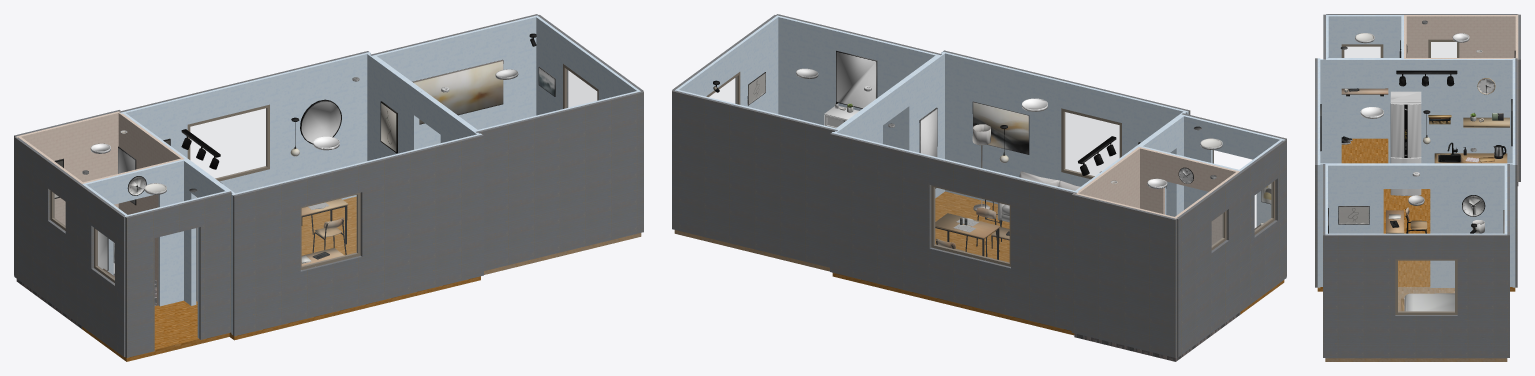
The model's file is scene_named.glb.
The picture shows the model from 3 angles, left to right: view 1: azimuth 30°, elevation 25°; view 2: azimuth 150°, elevation 25°; view 3: azimuth 270°, elevation 25°; orthographic projection. The views are drawn at different scales.
Parts seen in each view (by area): view 1: south_wall_exterior_living_room/south_wall_exterior_living_r, south_wall_exterior_bedroom/south_wall_exterior_bedroom/geom, north_wall_living_room/north_wall_living_room/geometry_0, south_wall_exterior_hallway/south_wall_exterior_hallway/geom, west_wall_exterior_bathroom/west_wall_exterior_bathroom/geom, north_wall_bedroom/north_wall_bedroom/geometry_0, west_wall_exterior_hallway/west_wall_exterior_hallway/geomet, east_wall_living_room/east_wall_living_room/geometry_0, north_wall_hallway/north_wall_hallway/geometry_0, north_wall_bathroom/north_wall_bathroom/geometry_0, east_wall_bedroom/east_wall_bedroom/geometry_0, window_1_living_room/window_1_living_room/glass (+19 smaller); view 2: north_wall_exterior_living_room/north_wall_exterior_living_r, north_wall_exterior_bedroom/north_wall_exterior_bedroom/geom, north_wall_exterior_bathroom/north_wall_exterior_bathroom/ge, south_wall_living_room/south_wall_living_room/geometry_0, west_wall_exterior_bathroom/west_wall_exterior_bathroom/geom, south_wall_bedroom/south_wall_bedroom/geometry_0, west_wall_exterior_hallway/west_wall_exterior_hallway/geomet, east_wall_living_room/east_wall_living_room/geometry_0, window_1_living_room/window_1_living_room/glass, east_wall_bedroom/east_wall_bedroom/geometry_0, floor_living_room, south_wall_hallway/south_wall_hallway/geometry_0 (+18 smaller); view 3: east_wall_exterior_bedroom/east_wall_exterior_bedroom/geomet, west_wall_living_room/west_wall_living_room/geometry_0, west_wall_bedroom/west_wall_bedroom/geometry_0, west_wall_hallway/west_wall_hallway/geometry_0, west_wall_bathroom/west_wall_bathroom/geometry_0, window_3_bedroom/window_3_bedroom/glass, floor_living_room, refrigerator_0/E_door1_1.001, floor_bedroom, floor_hallway, east_wall_living_room/east_wall_living_room/geometry_0, bed_0 (+30 smaller).
Part boxes in pixels (x1,y1,x2,y2): south_wall_exterior_living_room/south_wall_exterior_living_r: (233,134,483,336); south_wall_exterior_bedroom/south_wall_exterior_bedroom/geom: (476,91,643,270); north_wall_living_room/north_wall_living_room/geometry_0: (120,52,370,199); south_wall_exterior_hallway/south_wall_exterior_hallway/geom: (125,191,231,357); west_wall_exterior_bathroom/west_wall_exterior_bathroom/geom: (14,136,81,324); north_wall_bedroom/north_wall_bedroom/geometry_0: (372,16,536,148); west_wall_exterior_hallway/west_wall_exterior_hallway/geomet: (79,184,125,356); east_wall_living_room/east_wall_living_room/geometry_0: (367,53,479,160); north_wall_hallway/north_wall_hallway/geometry_0: (82,159,185,306); north_wall_bathroom/north_wall_bathroom/geometry_0: (16,111,120,225); east_wall_bedroom/east_wall_bedroom/geometry_0: (535,15,640,115); window_1_living_room/window_1_living_room/glass: (190,108,265,178); north_wall_exterior_living_room/north_wall_exterior_living_r: (830,133,1076,330); north_wall_exterior_bedroom/north_wall_exterior_bedroom/geom: (672,90,837,267); north_wall_exterior_bathroom/north_wall_exterior_bathroom/ge: (1071,193,1176,357); south_wall_living_room/south_wall_living_room/geometry_0: (941,51,1188,215); west_wall_exterior_bathroom/west_wall_exterior_bathroom/geom: (1176,171,1242,357); south_wall_bedroom/south_wall_bedroom/geometry_0: (778,16,940,148); west_wall_exterior_hallway/west_wall_exterior_hallway/geomet: (1240,139,1286,309); east_wall_living_room/east_wall_living_room/geometry_0: (834,53,944,198); window_1_living_room/window_1_living_room/glass: (935,188,1009,262); east_wall_bedroom/east_wall_bedroom/geometry_0: (675,15,779,113); floor_living_room: (832,191,1074,335); south_wall_hallway/south_wall_hallway/geometry_0: (1180,114,1284,226); east_wall_exterior_bedroom/east_wall_exterior_bedroom/geomet: (1325,234,1507,358); west_wall_living_room/west_wall_living_room/geometry_0: (1320,59,1512,163); west_wall_bedroom/west_wall_bedroom/geometry_0: (1325,164,1507,287); west_wall_hallway/west_wall_hallway/geometry_0: (1326,15,1403,138); west_wall_bathroom/west_wall_bathroom/geometry_0: (1404,15,1518,57); window_3_bedroom/window_3_bedroom/glass: (1398,261,1454,311); floor_living_room: (1317,189,1515,291); refrigerator_0/E_door1_1.001: (1390,103,1421,157); floor_bedroom: (1325,287,1507,361); floor_hallway: (1341,138,1388,163); east_wall_living_room/east_wall_living_room/geometry_0: (1320,163,1512,286); bed_0: (1401,293,1454,311).
Bounding box in the file's own units: 10.1 × 2.7 × 3.96.
109 materials, 88 textured.
